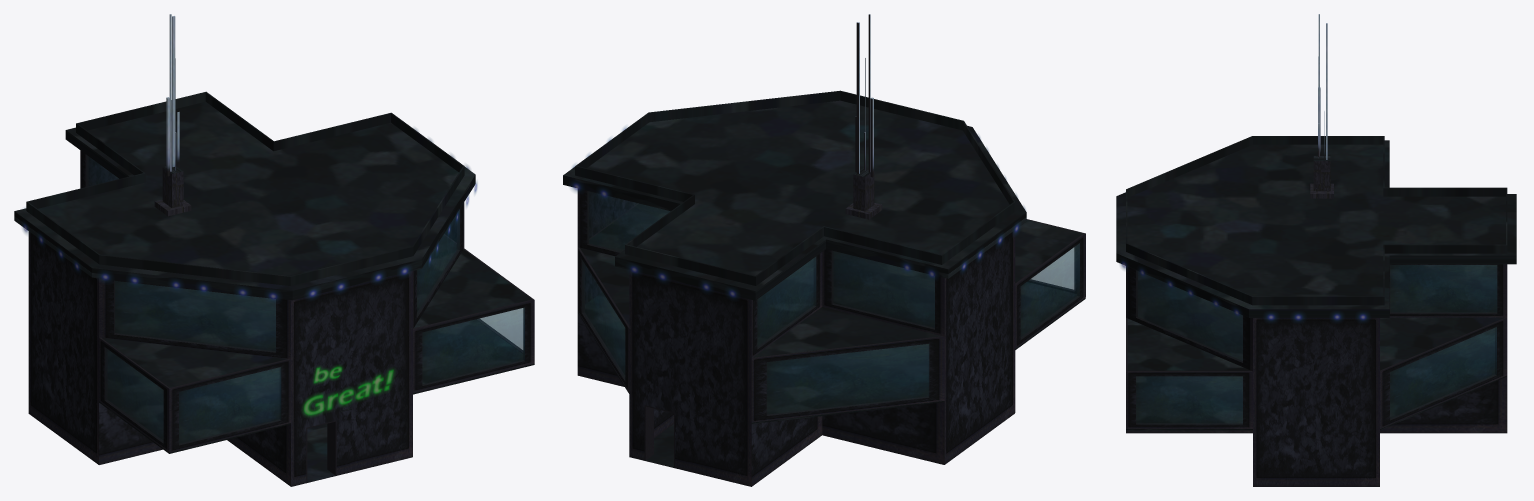
File: bdmix3s.DAE
3 views of the same model, side by side, from view 1: azimuth 30°, elevation 25°; view 2: azimuth 150°, elevation 25°; view 3: azimuth 270°, elevation 25° (orthographic). The views are drawn at different scales.
Visible parts, largest first — view 1: building_ledge03-Pivot, building_wallWindowGlass05, Plane02; view 2: building_ledge03-Pivot, building_wallWindowGlass05, Plane02; view 3: building_ledge03-Pivot, building_wallWindowGlass05, Plane02.
Boxes of the visible parts, box(x1,y1,x2,y2) form: building_ledge03-Pivot: box(14, 14, 534, 486); building_wallWindowGlass05: box(86, 155, 524, 444); Plane02: box(22, 128, 477, 416); building_ledge03-Pivot: box(563, 14, 1085, 486); building_wallWindowGlass05: box(582, 191, 1079, 415); Plane02: box(571, 127, 1025, 299); building_ledge03-Pivot: box(1116, 14, 1516, 486); building_wallWindowGlass05: box(1136, 265, 1496, 424); Plane02: box(1120, 259, 1368, 321).
Size of the model in its own units: 44.32 by 43.1 by 44.04.
Materials: 2 (2 with a texture image).
